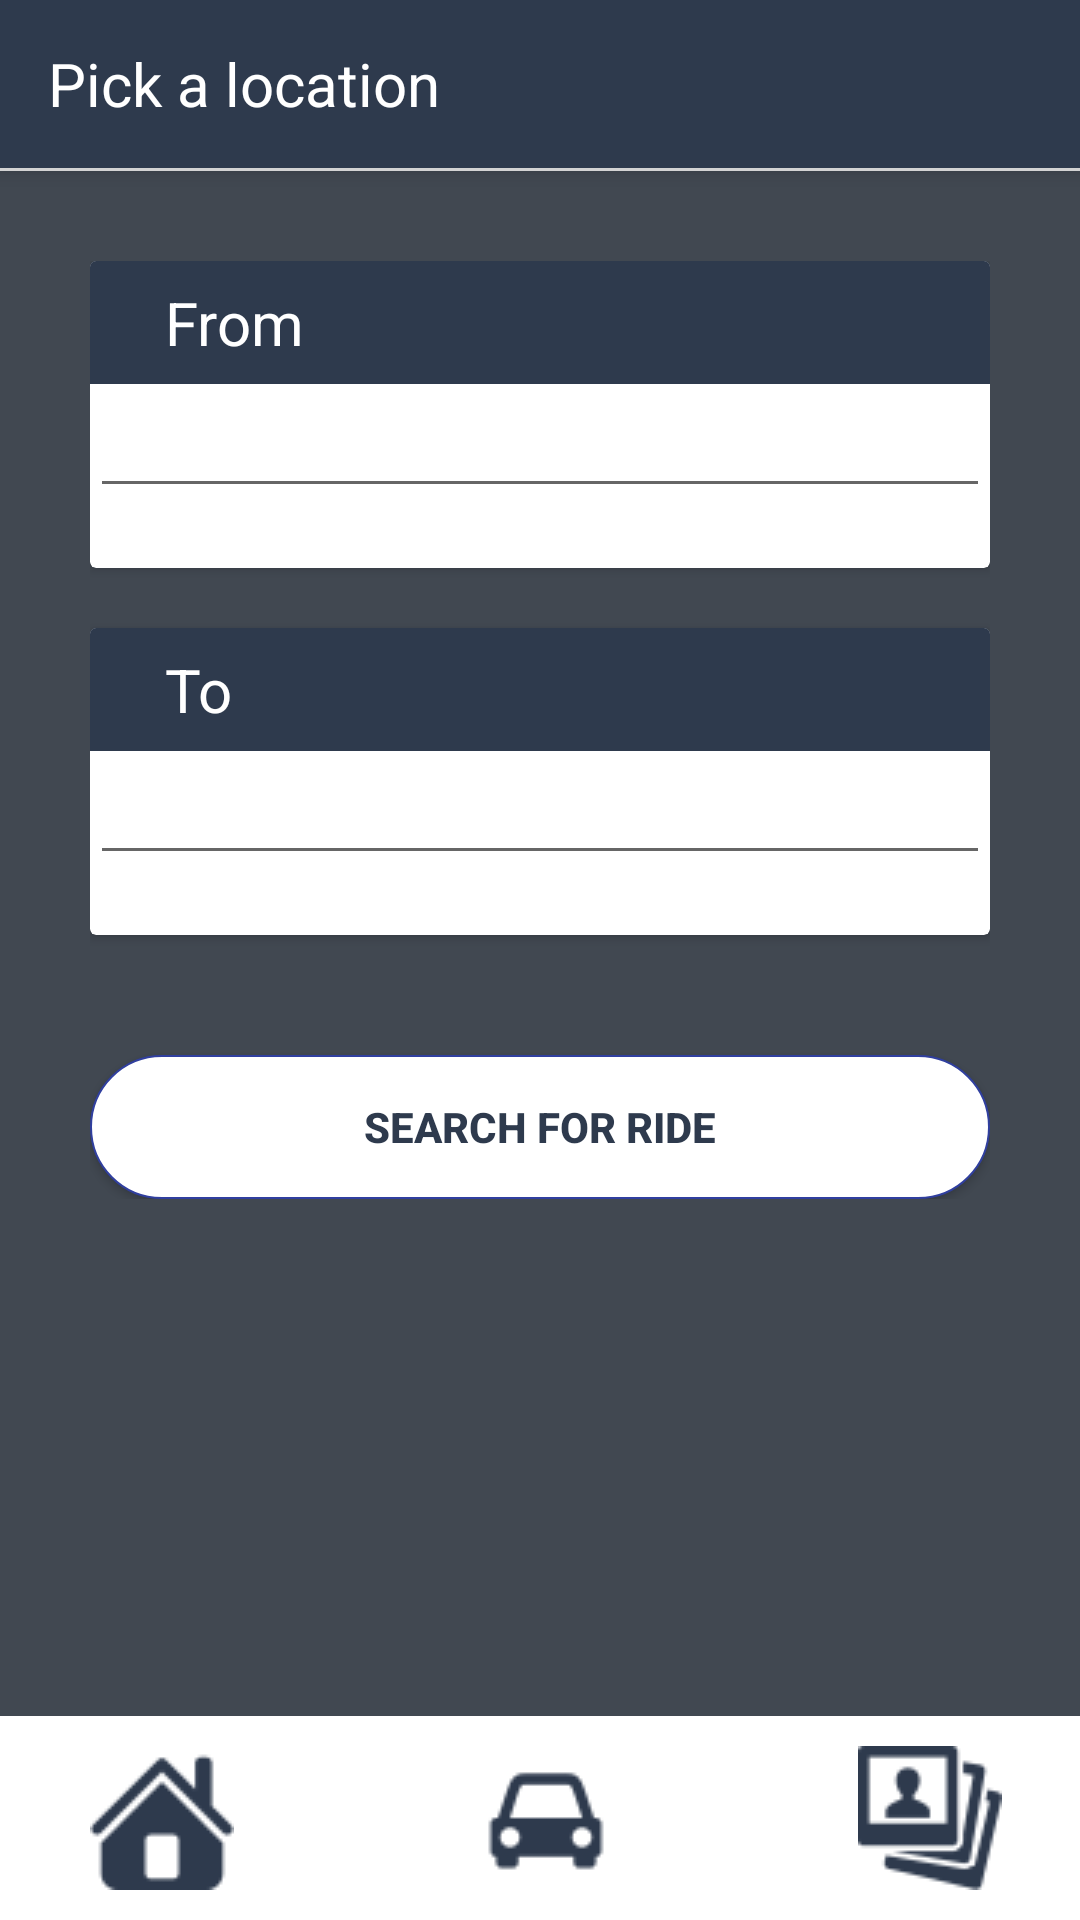

Icon bounding boxes for this 1080 x 1920 phone screenshot, format bbox(x1, y1, x2, y2):
car: bbox(488, 1772, 604, 1870)
gal: bbox(858, 1746, 1002, 1890)
home: bbox(90, 1755, 234, 1890)
